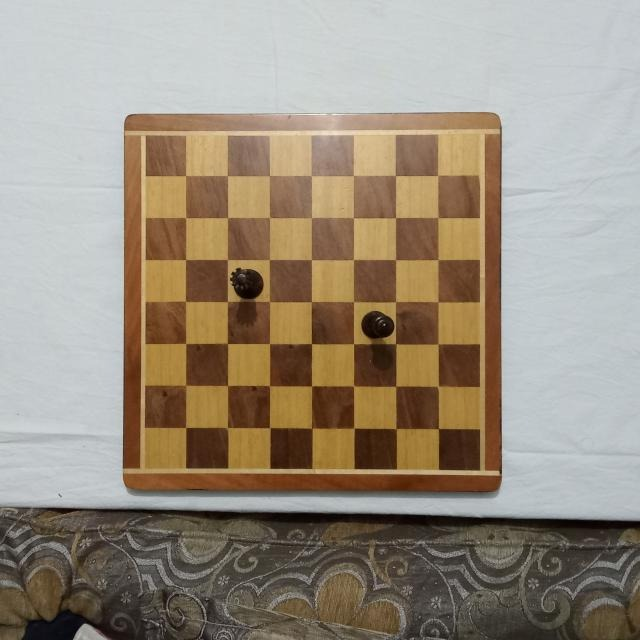black-king: (361, 309, 395, 339)
black-queen: (229, 265, 263, 298)
